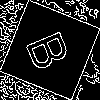B: (25, 25, 80, 74)
